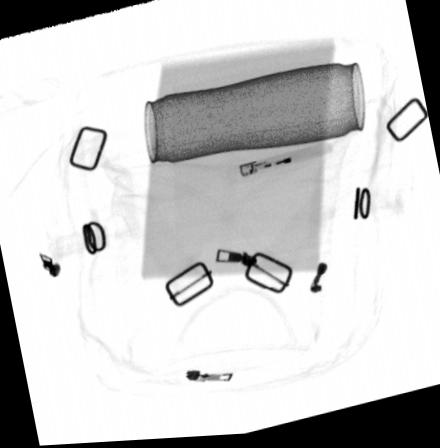Lighter: (239, 144, 334, 180)
